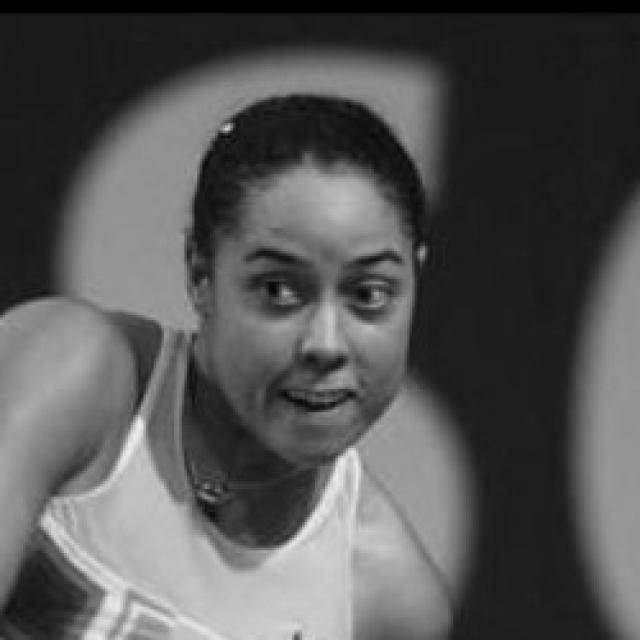real: (196, 112, 420, 468), (247, 251, 400, 320)
